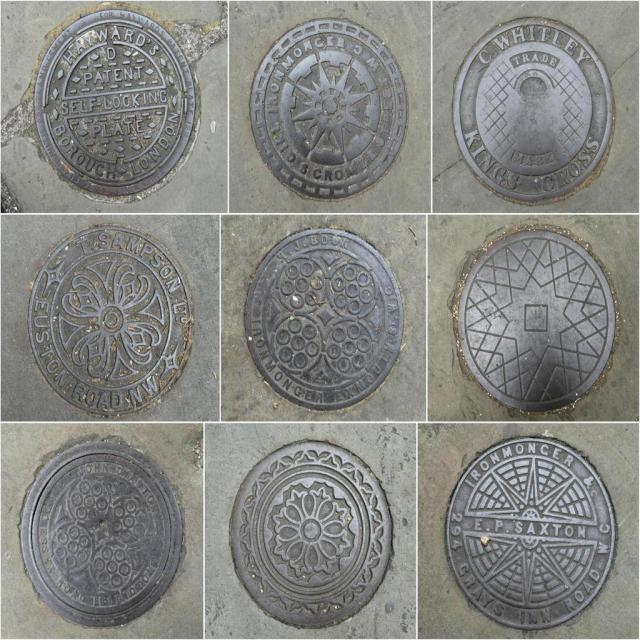Coin: (443, 432, 619, 630), (17, 433, 186, 629), (28, 222, 197, 414), (224, 440, 394, 628), (32, 7, 197, 200), (245, 221, 405, 411), (452, 16, 615, 201), (456, 228, 617, 411), (252, 17, 410, 197)
